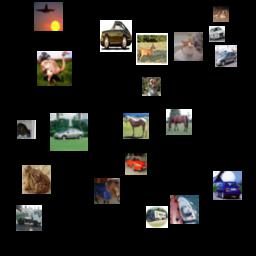airplane: (34, 2, 63, 31)
automobile: (50, 113, 88, 151), (100, 20, 132, 52), (213, 171, 242, 200), (125, 153, 147, 175), (215, 45, 237, 67), (209, 26, 225, 42)
bird: (37, 51, 72, 86)
cat: (174, 32, 203, 61), (17, 120, 36, 139)
deer: (136, 33, 168, 65)
dog: (142, 77, 161, 96), (213, 6, 229, 22)
frog: (22, 165, 51, 194)
ship: (170, 195, 199, 224)
truck: (16, 205, 42, 231), (146, 206, 168, 228)
